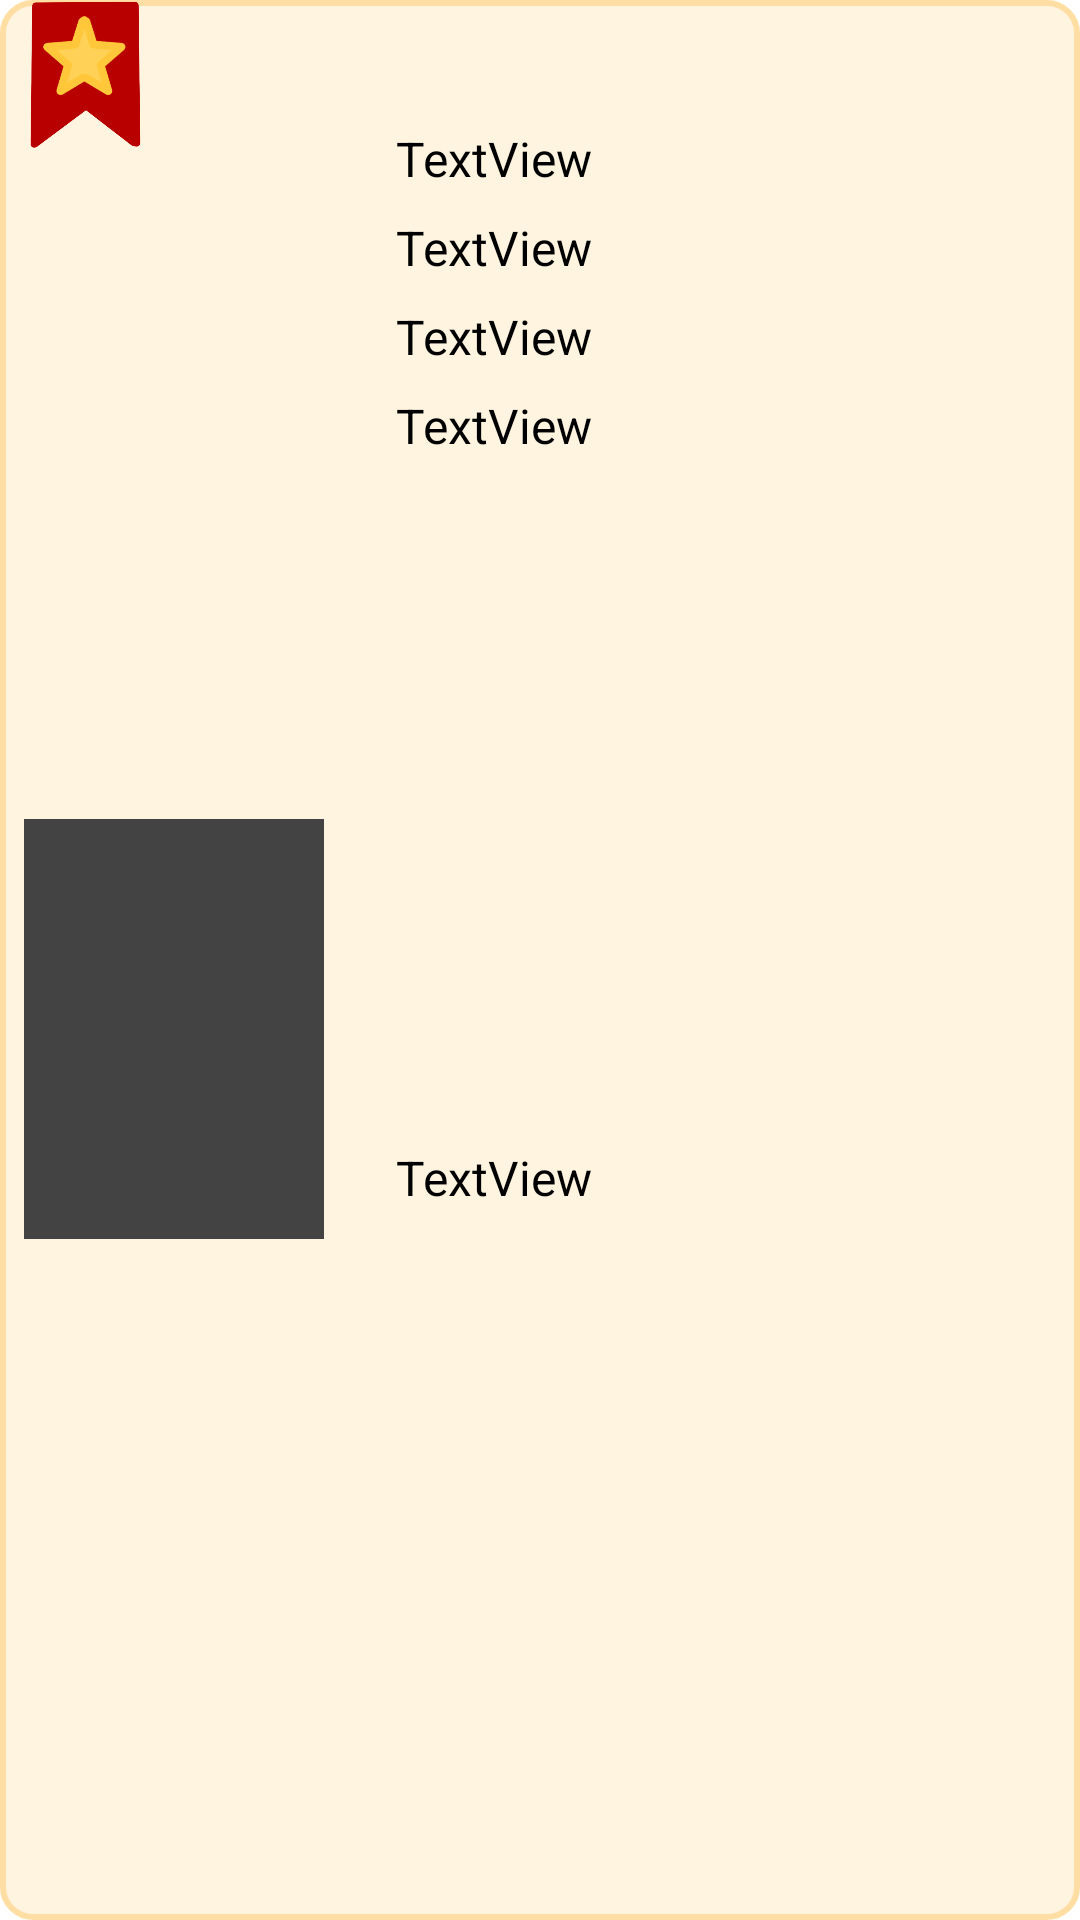

Named icons in this screenshot (1080×1920) and their bounding boxes, (x1, y1, x2, y2):
marking: (24, 0, 144, 148)
